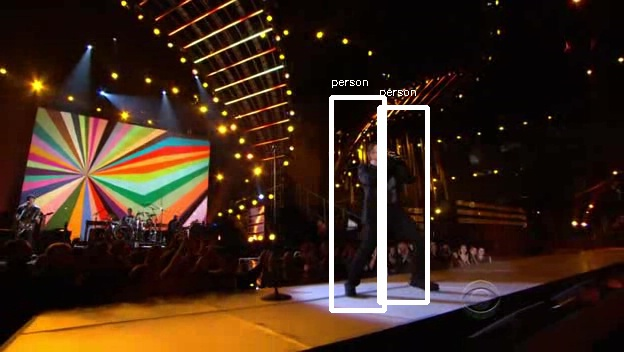person: (355, 139, 417, 249), (352, 139, 414, 249), (358, 139, 420, 249), (355, 136, 417, 246), (355, 142, 417, 252)
target_negative: (192, 196, 617, 341), (434, 126, 515, 251), (258, 69, 301, 273), (298, 284, 374, 345), (456, 61, 495, 148), (609, 180, 621, 332)
